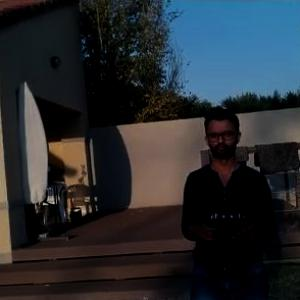follow: (174, 99, 282, 299)
